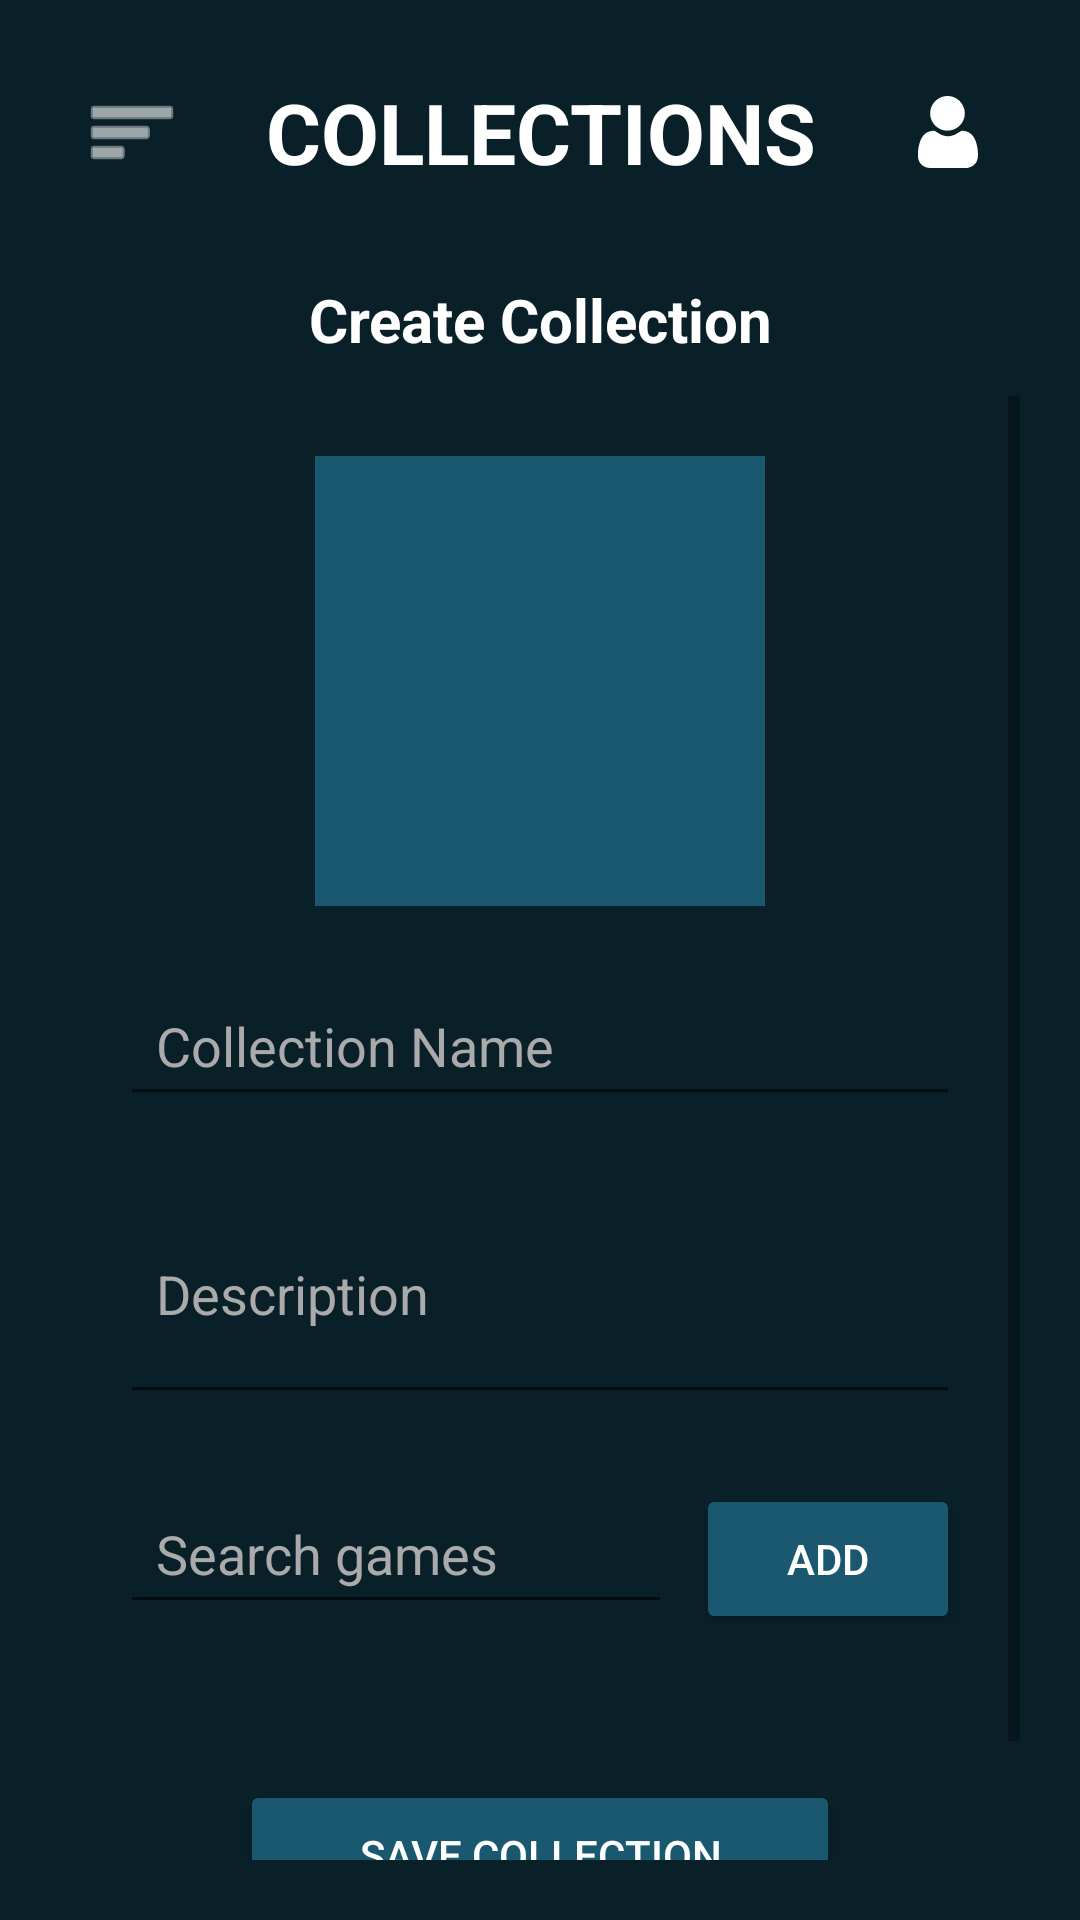

Icon bounding boxes for this 1080×1920 phone screenshot, format (x1, y1, x2, y2):
Open user profile: (918, 96, 978, 168)
